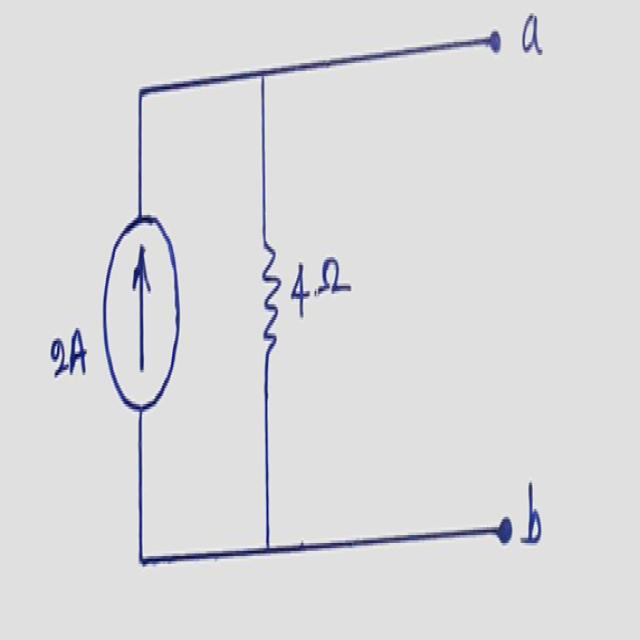current_source: (99, 211, 183, 417)
resistor: (259, 230, 286, 368)
